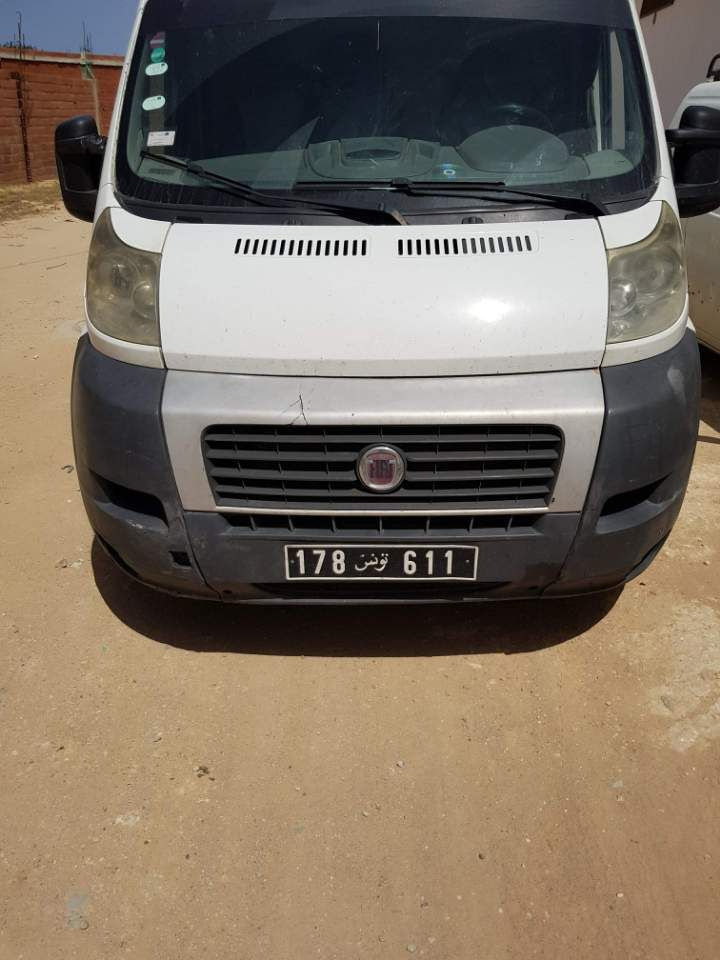LP: (283, 541, 480, 585)
